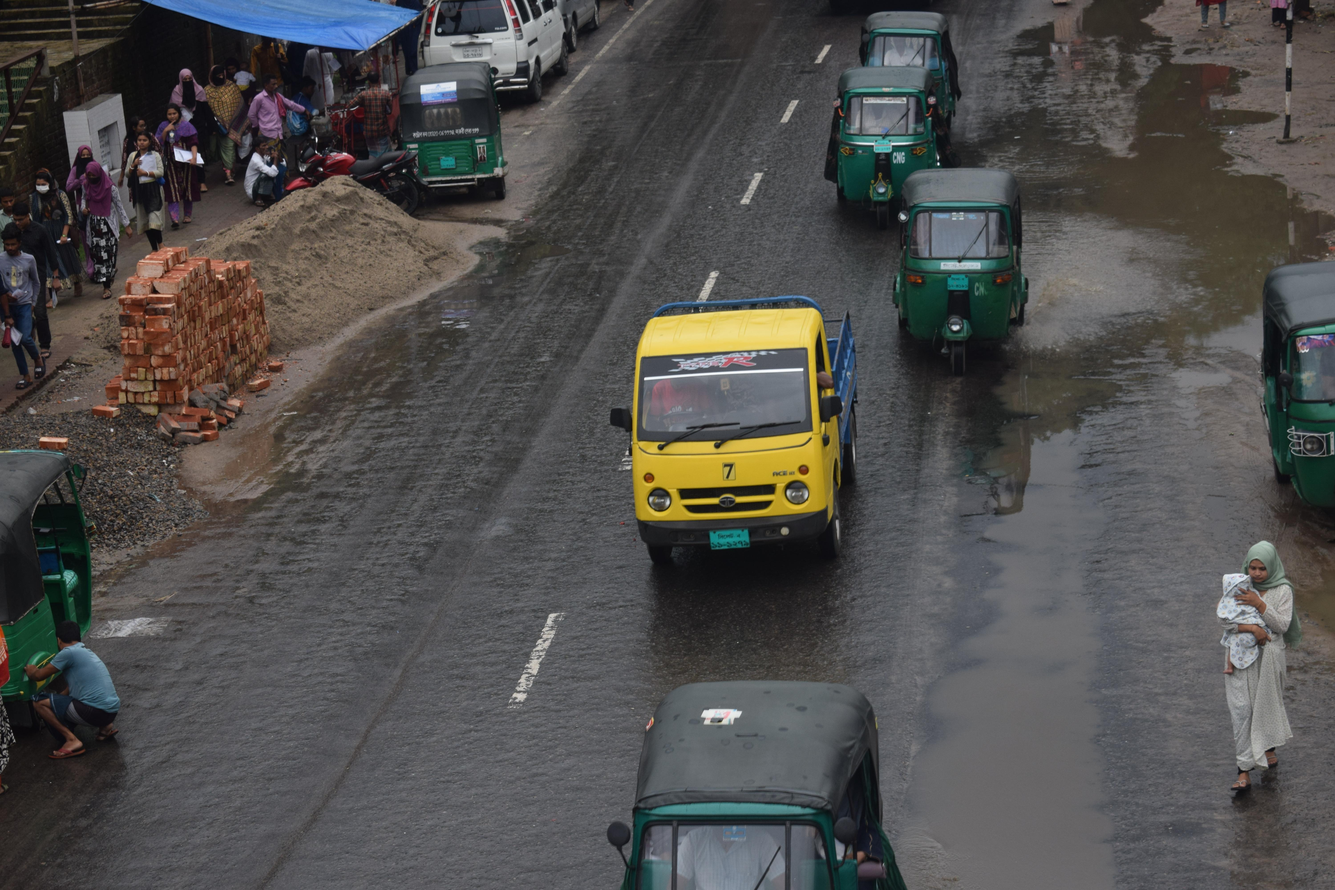Car: (405, 0, 611, 110)
Truck: (567, 260, 905, 619)
